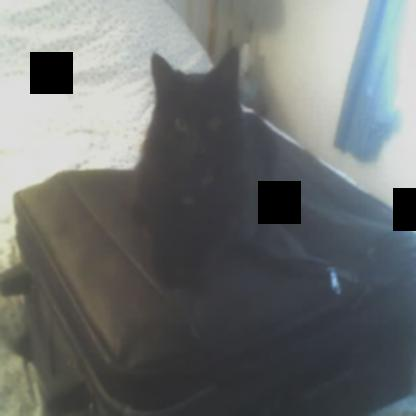suitcase: (0, 129, 416, 416)
